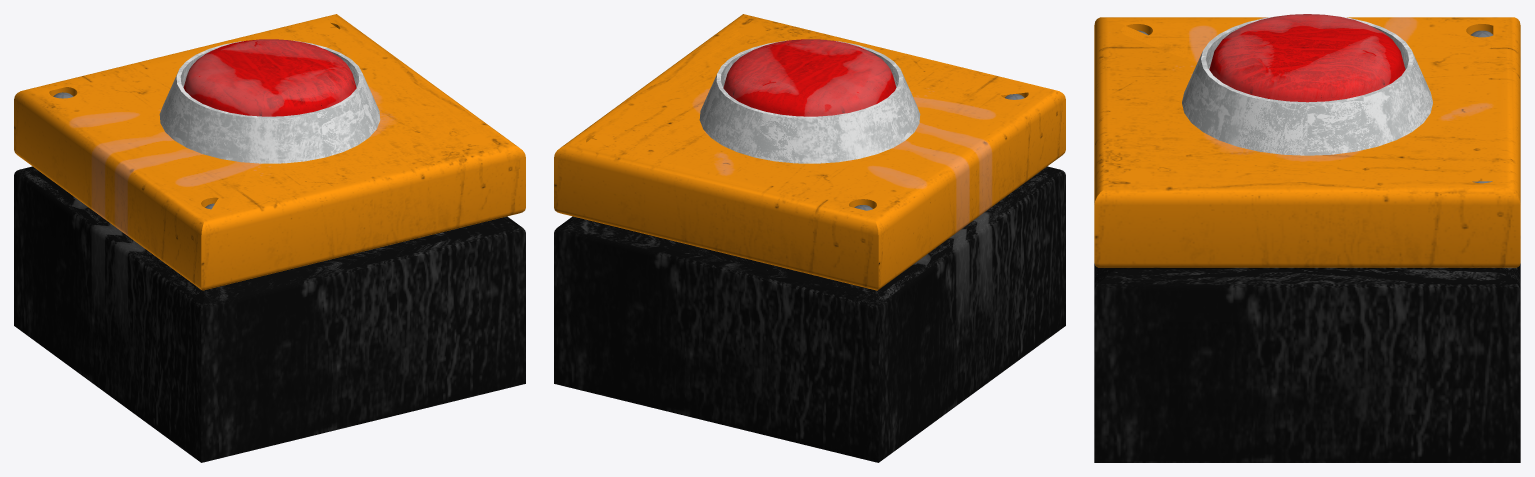
File: Button.fbx
3 views of the same model, side by side, from view 1: azimuth 30°, elevation 25°; view 2: azimuth 150°, elevation 25°; view 3: azimuth 270°, elevation 25° (orthographic). The views are drawn at different scales.
Visible parts, largest first — view 1: ButtonBase, ButtonRing, Button; view 2: ButtonBase, ButtonRing, Button; view 3: ButtonBase, ButtonRing, Button.
Part boxes in pixels (x1,y1,x2,y2): ButtonBase: [14, 14, 525, 462]; ButtonRing: [159, 40, 380, 163]; Button: [183, 39, 356, 116]; ButtonBase: [554, 14, 1065, 462]; ButtonRing: [699, 40, 920, 163]; Button: [723, 39, 896, 116]; ButtonBase: [1094, 17, 1520, 462]; ButtonRing: [1182, 15, 1432, 155]; Button: [1209, 14, 1405, 102].
Bounding box in the file's own units: 400 × 340 × 400.
